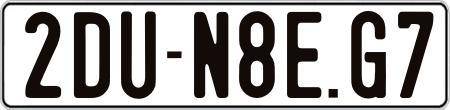2: (22, 10, 64, 97)
7: (397, 9, 431, 100)
8: (236, 8, 276, 98)
D: (73, 9, 109, 100)
E: (284, 12, 324, 104)
G: (351, 8, 390, 95)
N: (191, 12, 230, 99)
U: (120, 10, 159, 102)
